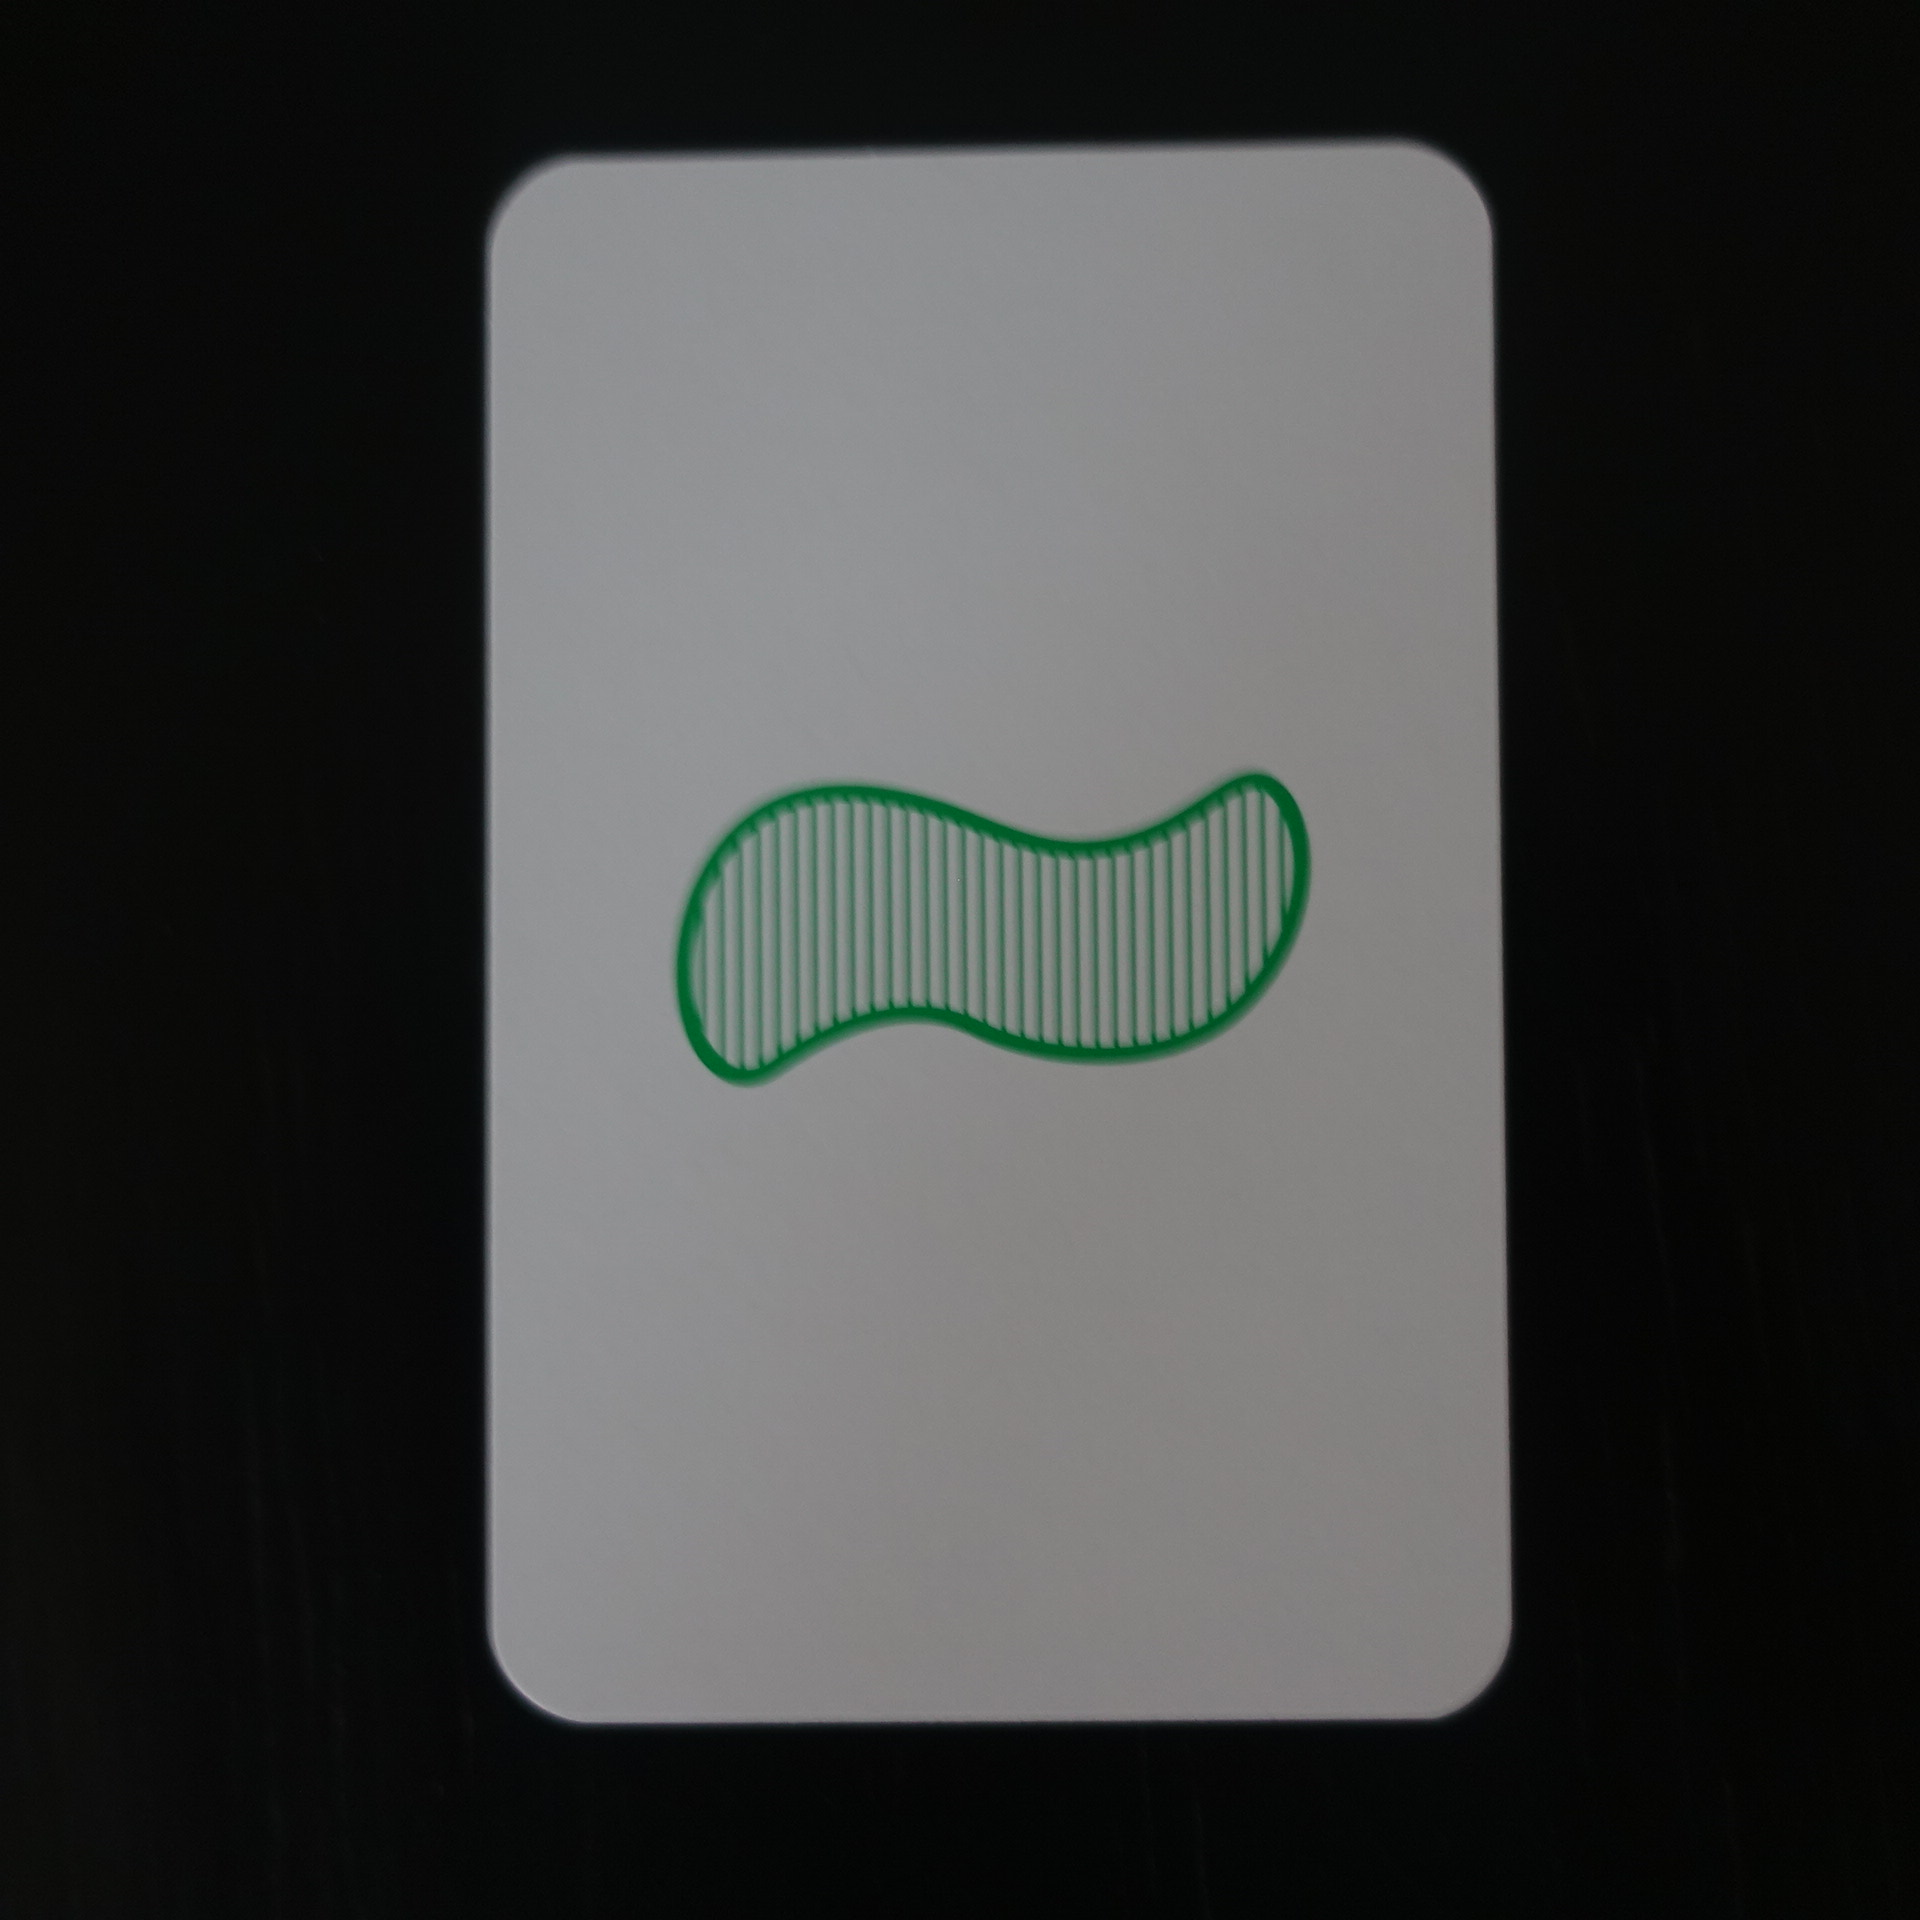c-1-h-s-g: (452, 121, 1533, 1764)
